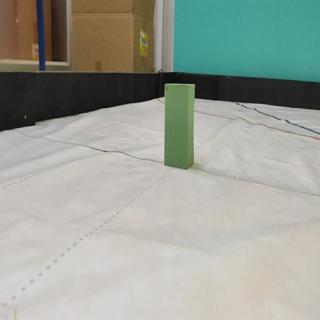greenbox: (163, 82, 195, 169)
